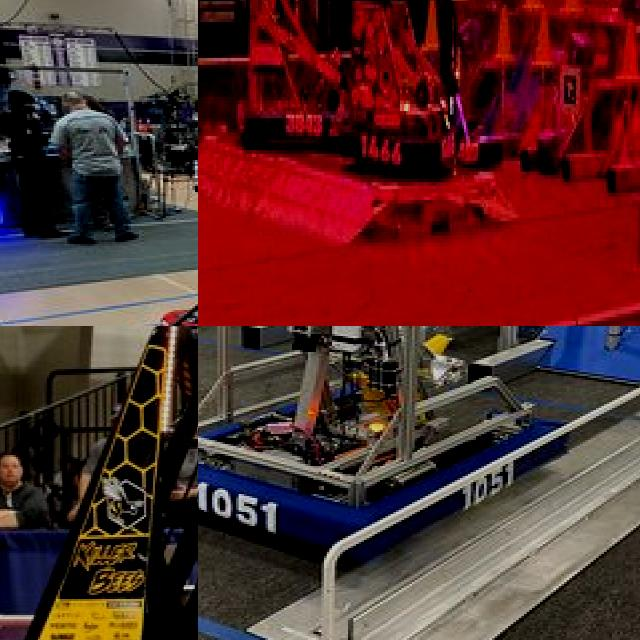FRC-Robots: (198, 326, 618, 563), (0, 326, 198, 640), (62, 18, 198, 326), (346, 0, 484, 265), (220, 0, 339, 198)
